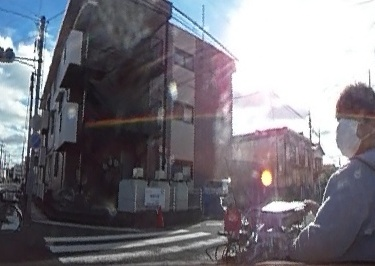person: (304, 78, 375, 266)
